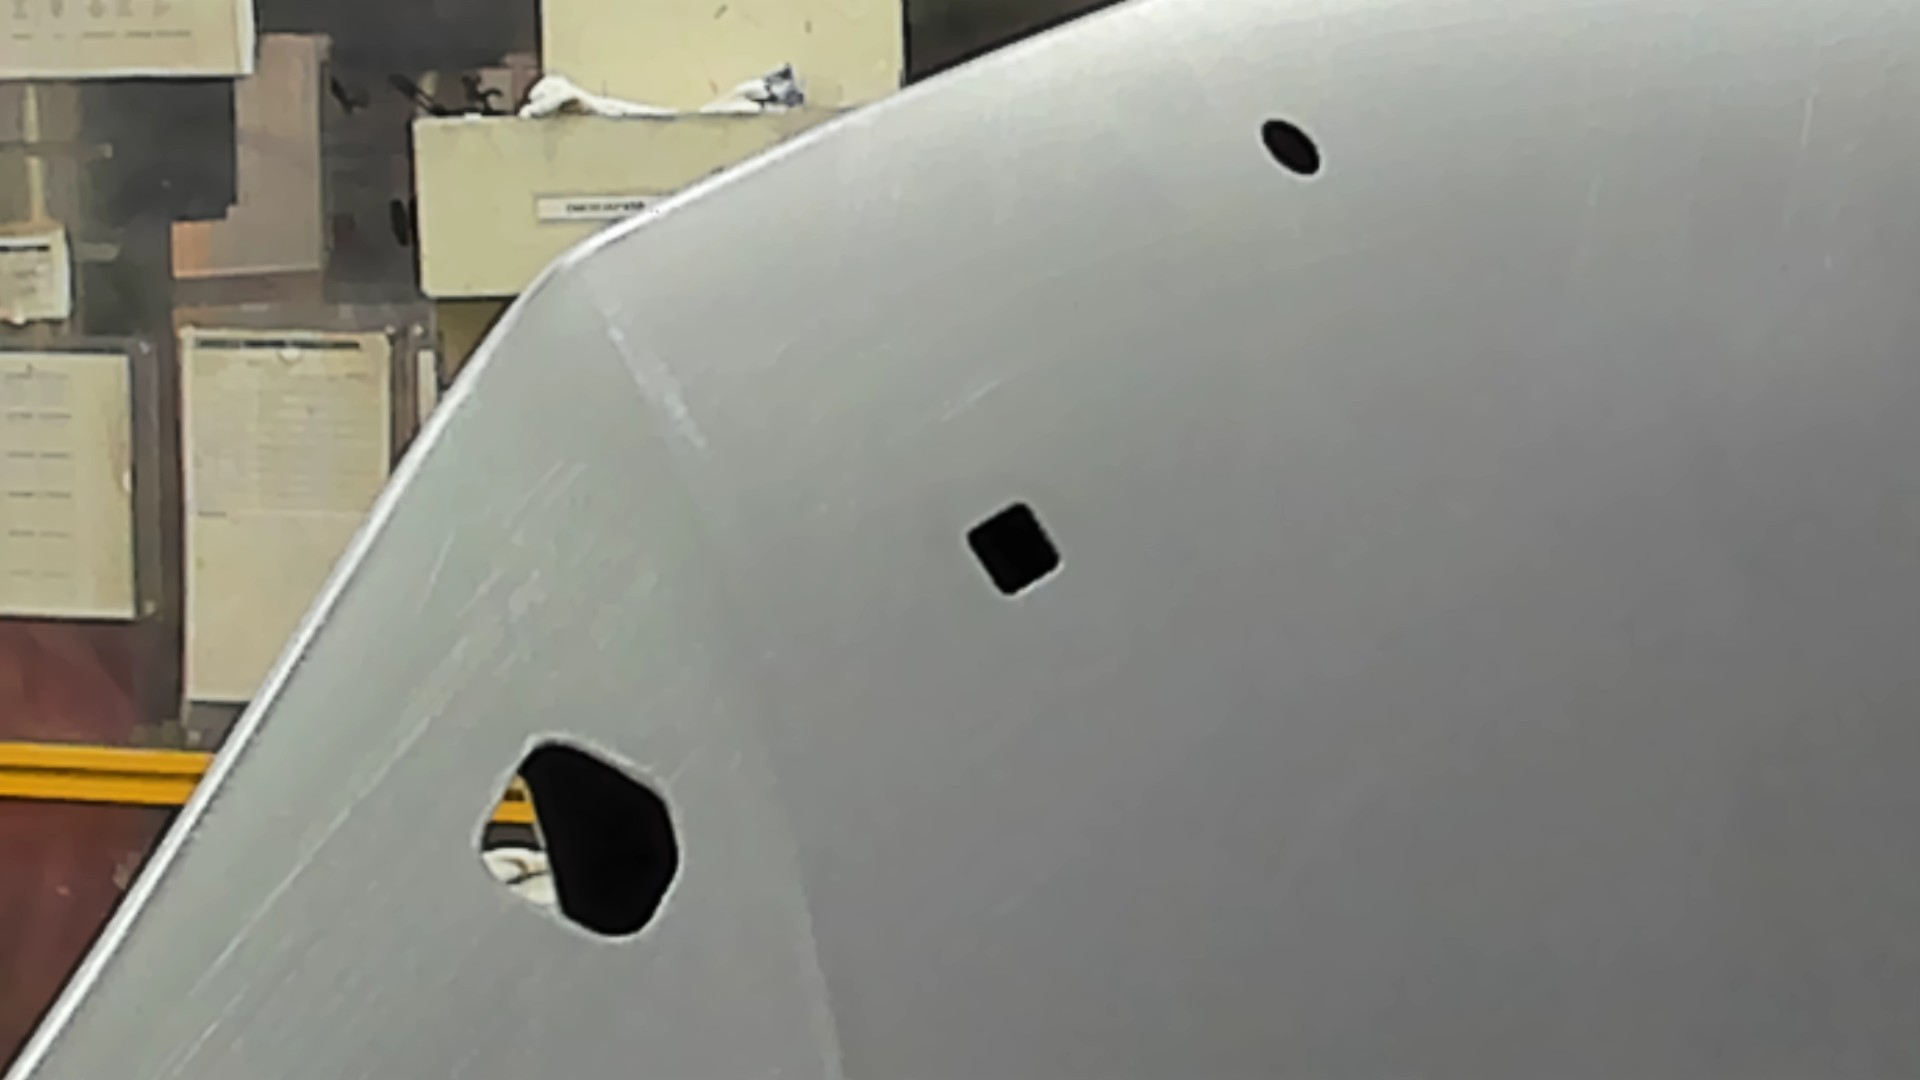chico: (1255, 111, 1328, 183)
grande: (471, 733, 688, 953)
mediano: (956, 495, 1068, 604)
